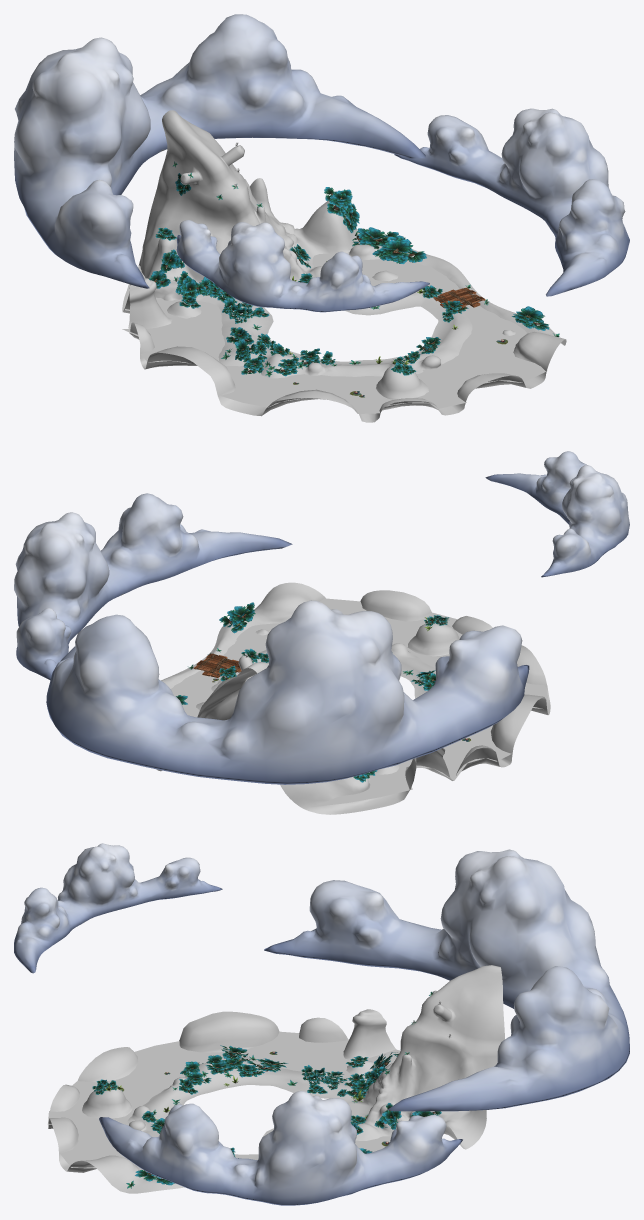
The model's file is mission_03.fbx.
3 renders of one model, top to bottom at view 1: azimuth 30°, elevation 25°; view 2: azimuth 150°, elevation 25°; view 3: azimuth 270°, elevation 25°, orthographic. The views are drawn at different scales.
Visible parts, largest first — view 1: clouds_map03, map03, watermap03, feuillebleu, tronbuissonbleu, paserrelle_bois; view 2: clouds_map03, map03, watermap03, feuillebleu, paserrelle_bois; view 3: clouds_map03, map03, watermap03, feuillebleu, tronbuissonbleu.
Boxes of the visible parts, x1,y1,x2,y2 form: clouds_map03: (14,14,629,312); map03: (122,110,566,422); watermap03: (122,253,547,413); feuillebleu: (148,173,549,376); tronbuissonbleu: (154,186,540,372); paserrelle_bois: (433,287,485,309); clouds_map03: (14,451,629,784); map03: (156,582,550,814); watermap03: (171,598,547,807); feuillebleu: (176,602,449,782); paserrelle_bois: (193,653,241,677); clouds_map03: (14,843,629,1205); map03: (48,965,504,1193); watermap03: (47,1031,400,1178); feuillebleu: (92,1045,441,1185); tronbuissonbleu: (96,1050,434,1180).
Bounding box in the file's own units: 2095 × 916 × 2307.
